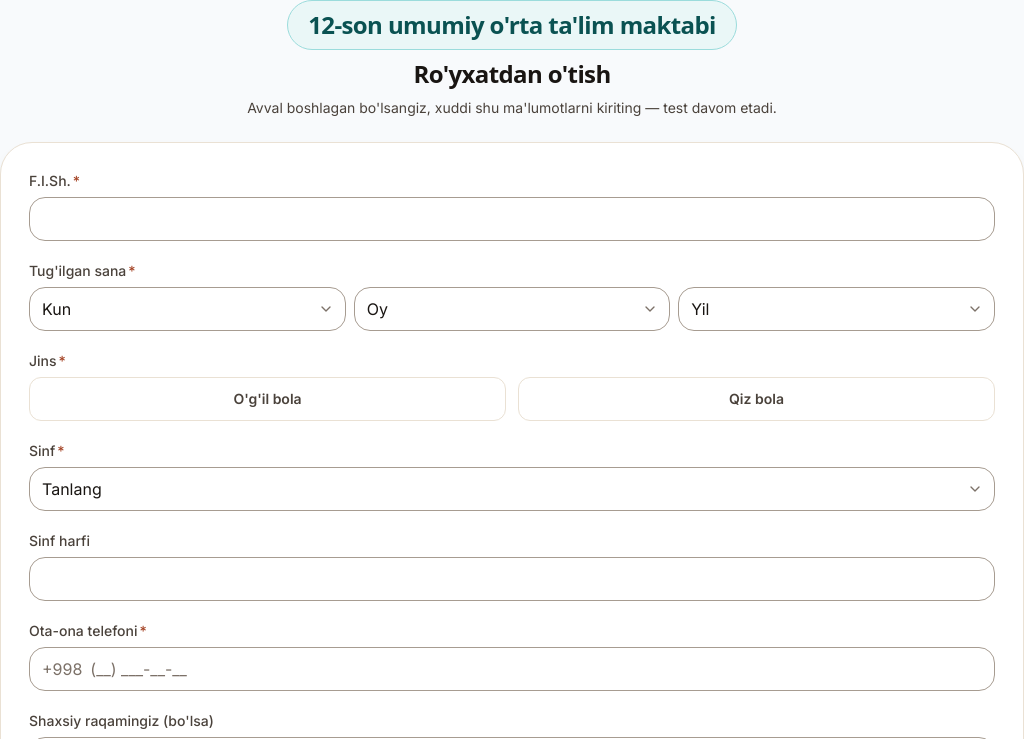
it: RegistrationPage › F.I.Sh. maydoniga harfma-harf yozish ishlaydi va fokus maydonda qoladi
The width and height of the screenshot is (1024, 739).
Click the field labelled "F.I.Sh.": coordinates (512, 219) left=29, top=197, right=995, bottom=241
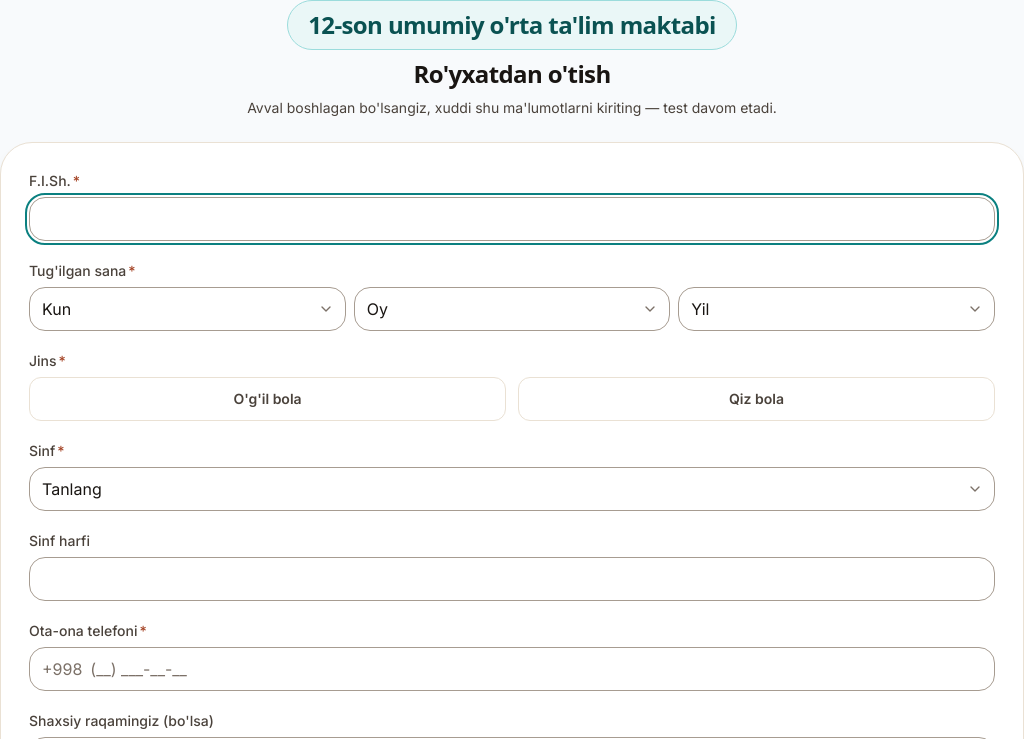
Type keys "Abdulaziz Vohidjonov"
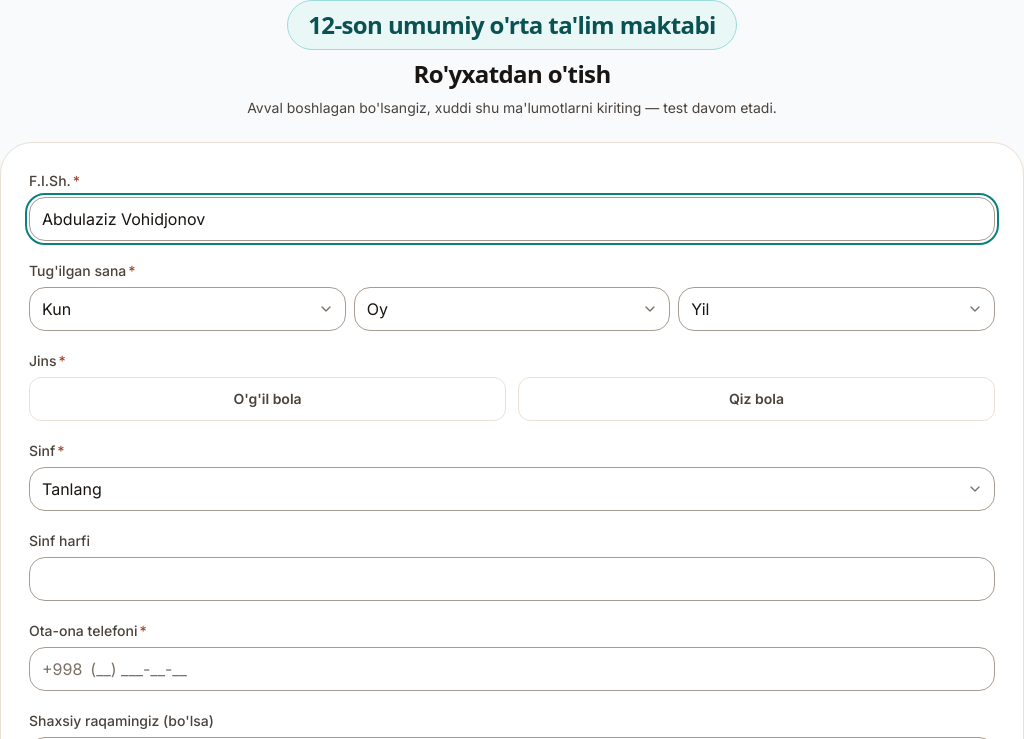
expect the field labelled "F.I.Sh." holds "Abdulaziz Vohidjonov": met, box left=29, top=197, right=995, bottom=241
